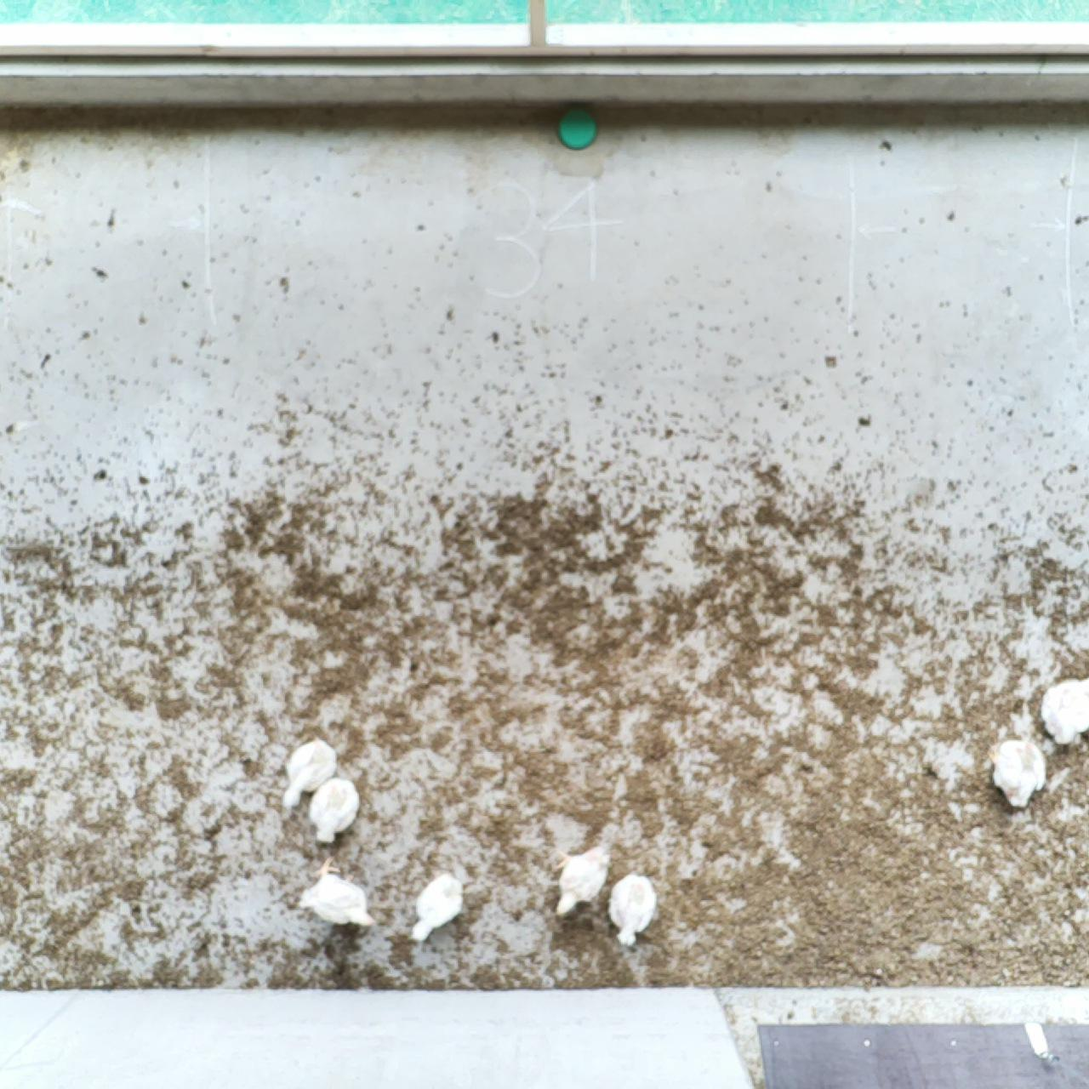chicken: (296, 853, 379, 935), (982, 734, 1053, 816), (546, 840, 617, 922), (276, 731, 338, 812), (305, 774, 367, 849), (406, 871, 468, 946), (1031, 670, 1089, 750), (606, 868, 661, 947)
